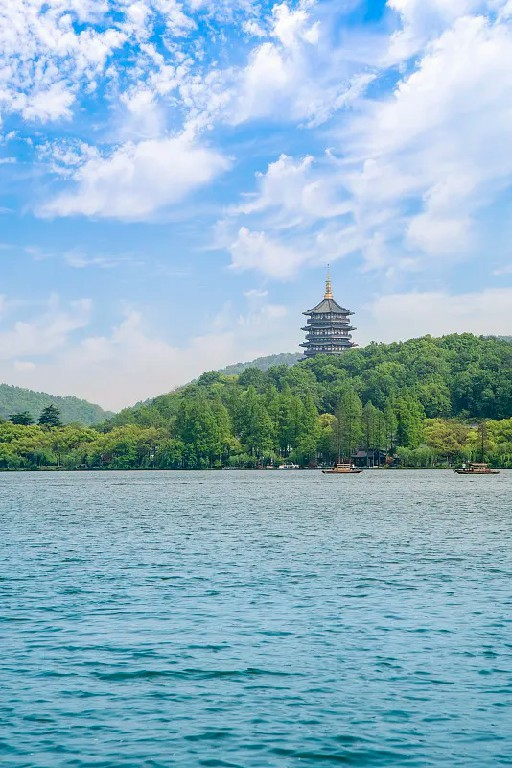Leifeng: (296, 262, 358, 361)
